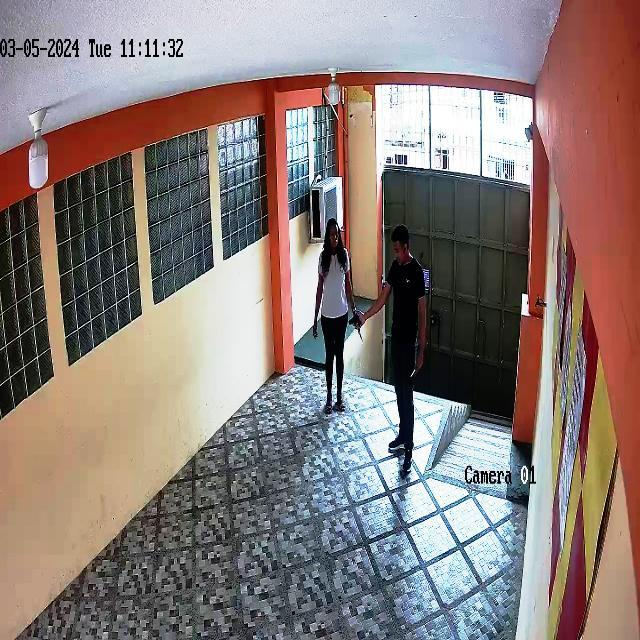Gun: (339, 308, 369, 334)
Knife: (407, 352, 428, 391)
